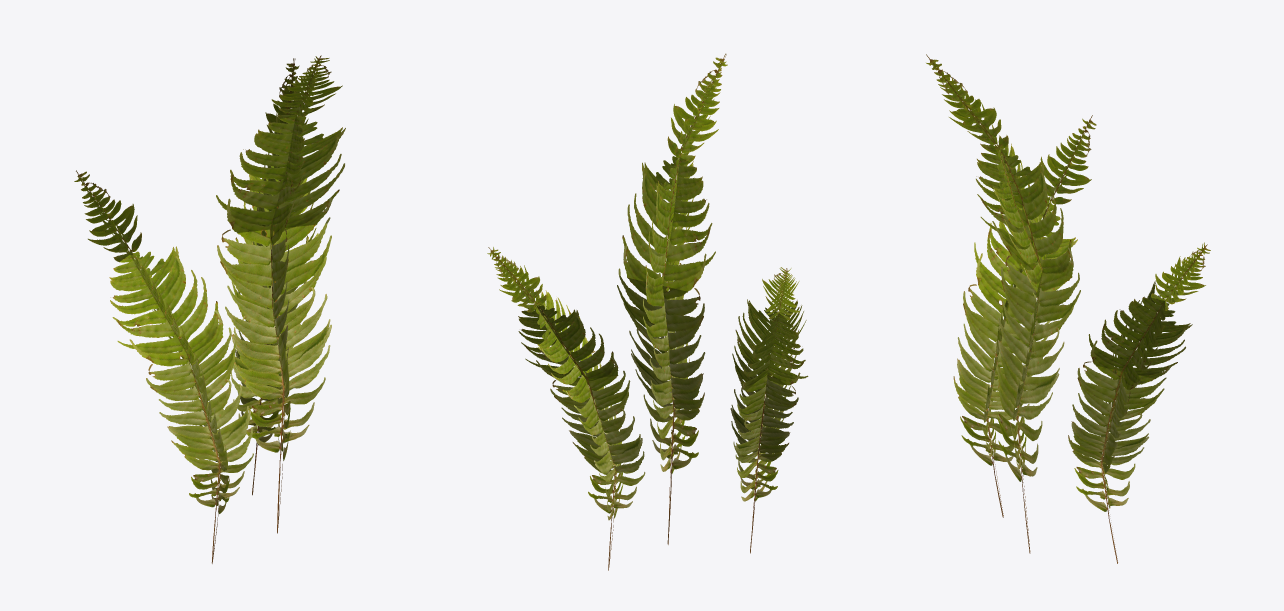
Rendered from smallPlant.fbx.
3 views of the same model, side by side, from view 1: azimuth 30°, elevation 25°; view 2: azimuth 150°, elevation 25°; view 3: azimuth 270°, elevation 25° (orthographic). The views are drawn at different scales.
Parts seen in each view (by area): view 1: TexturesCom_Branches0028_1_S002, TexturesCom_Branches0028_1_S001, TexturesCom_Branches0028_1_S003; view 2: TexturesCom_Branches0028_1_S002, TexturesCom_Branches0028_1_S003, TexturesCom_Branches0028_1_S001; view 3: TexturesCom_Branches0028_1_S002, TexturesCom_Branches0028_1_S003, TexturesCom_Branches0028_1_S001.
Part boxes in pixels (box(x1,y1,x2,y2)): TexturesCom_Branches0028_1_S002: box(216, 55, 345, 533); TexturesCom_Branches0028_1_S001: box(74, 170, 253, 563); TexturesCom_Branches0028_1_S003: box(231, 58, 318, 495); TexturesCom_Branches0028_1_S002: box(617, 53, 727, 544); TexturesCom_Branches0028_1_S003: box(487, 247, 645, 570); TexturesCom_Branches0028_1_S001: box(730, 267, 808, 553); TexturesCom_Branches0028_1_S002: box(926, 54, 1080, 553); TexturesCom_Branches0028_1_S003: box(1068, 242, 1210, 563); TexturesCom_Branches0028_1_S001: box(953, 115, 1096, 517).
Bounding box in the file's own units: 131 × 176 × 125.
